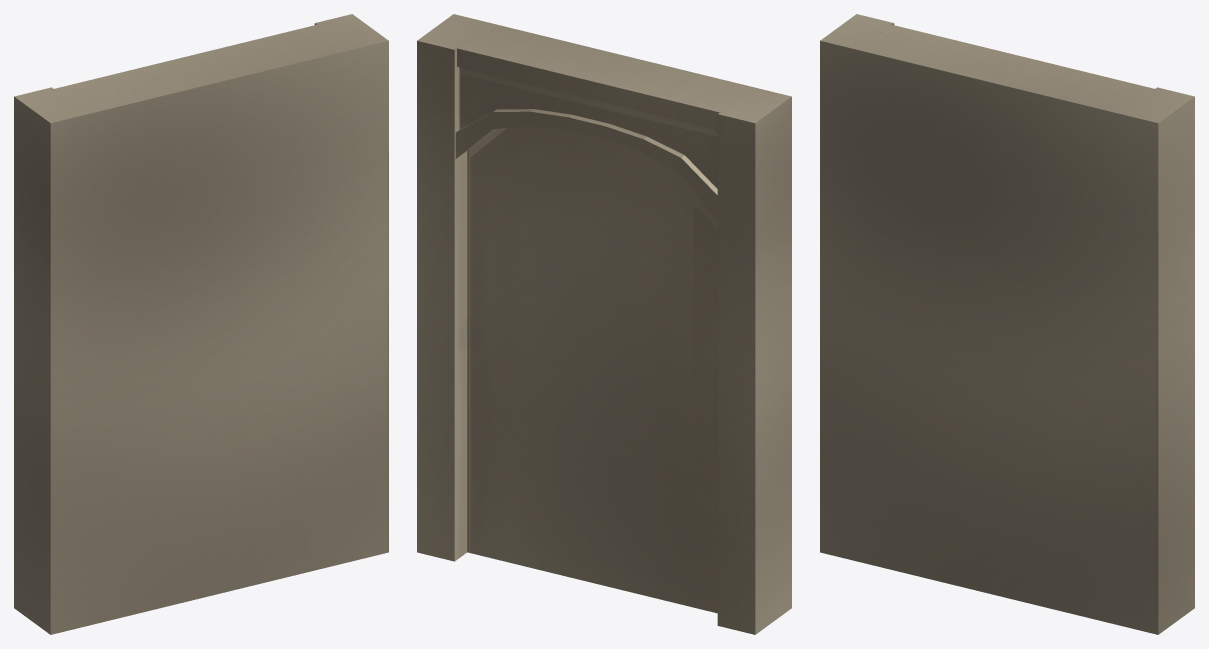
The model's file is bg_wall.fbx.
3 views of the same model, side by side, from view 1: azimuth 30°, elevation 25°; view 2: azimuth 150°, elevation 25°; view 3: azimuth 330°, elevation 25° (orthographic).
Visible parts, largest first — view 1: bg_wall; view 2: bg_wall; view 3: bg_wall.
Part boxes in pixels (left/top/right/bottom): bg_wall: left=14, top=14, right=388, bottom=634; bg_wall: left=417, top=14, right=791, bottom=634; bg_wall: left=820, top=14, right=1194, bottom=634.
Bounding box in the file's own units: 396 × 573 × 74.17.
